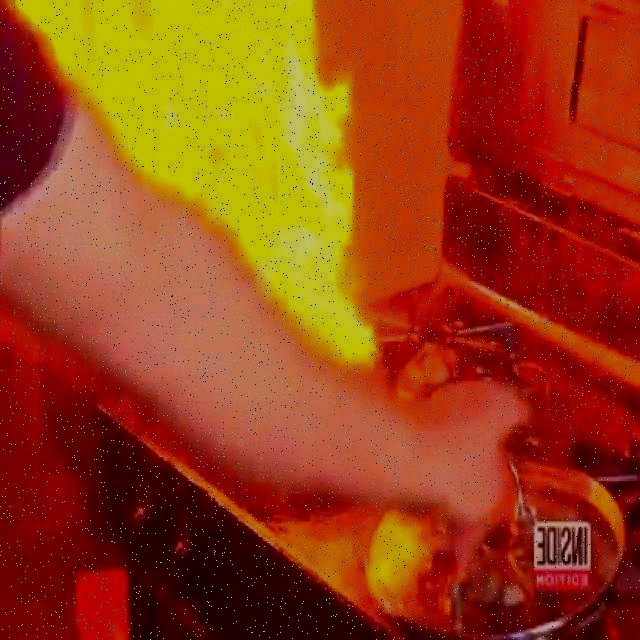fire: (62, 0, 373, 381)
